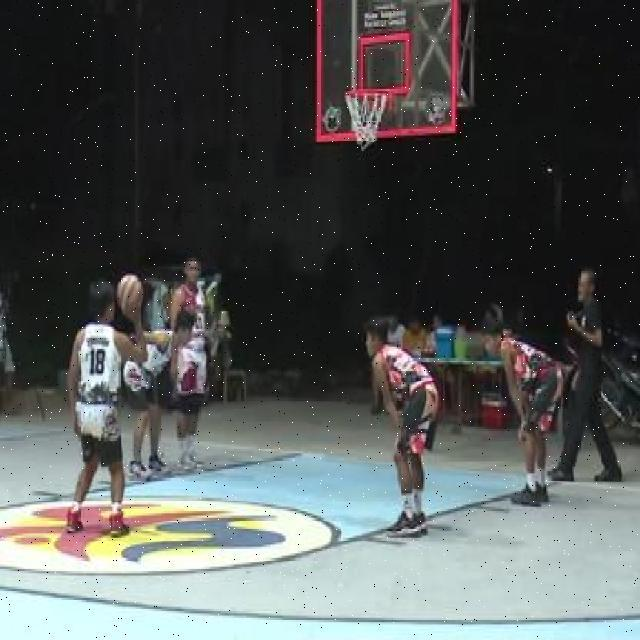ball: (115, 272, 146, 314)
hoop: (341, 86, 392, 99)
